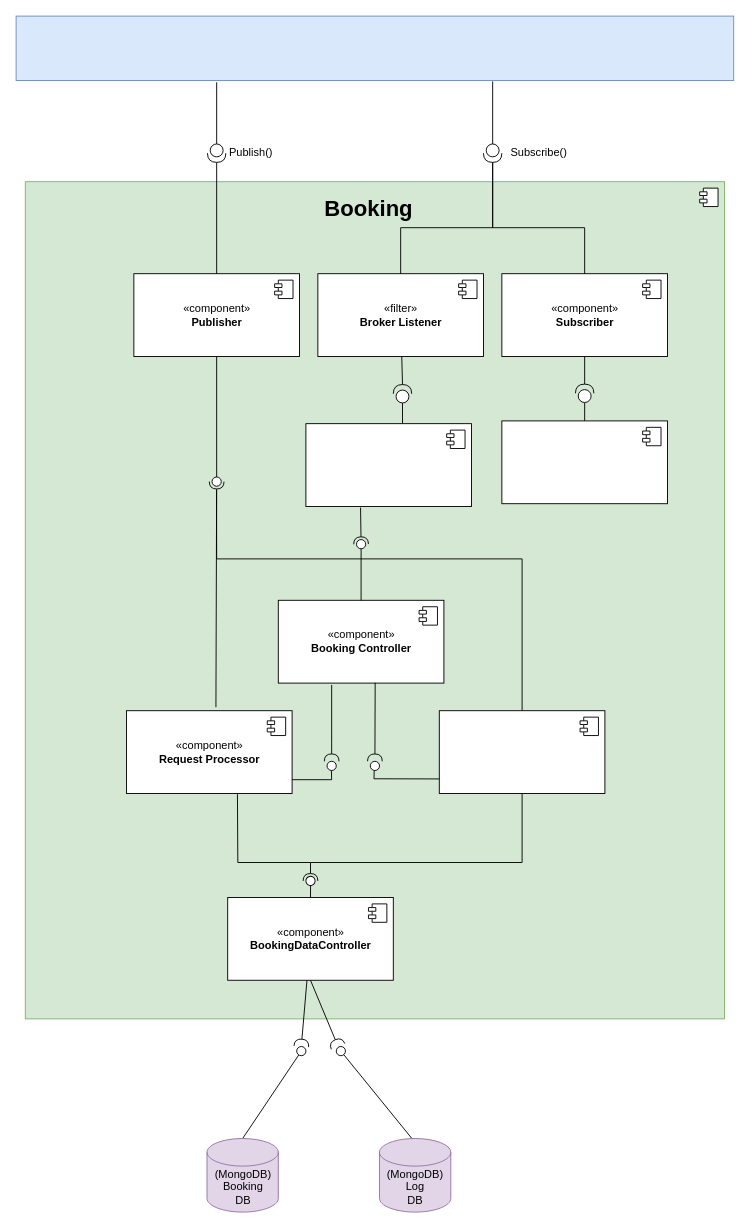
The diagram is 750 pixels wide and 1228 high, and some of its shapes have lost their labels. Here are the shapes that lost their labels. From the top down, the centre of each, then its label:
At (374,47): "Mosquitto Broker".
At (388,464): "«component» RequestRateLimiter".
At (584,462): "«component» Broker connector".
At (521,752): "«component» Booking Processor".
